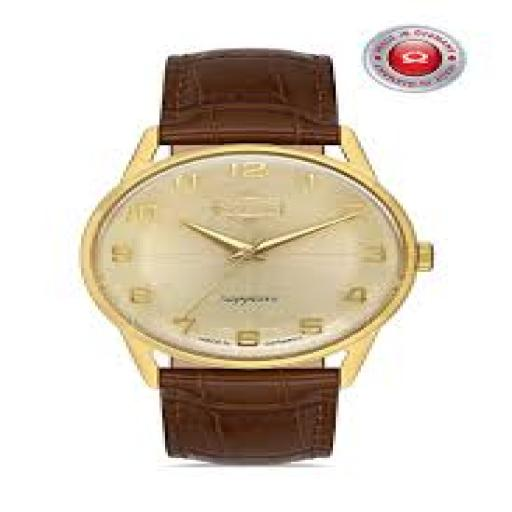KolSaati: (64, 30, 408, 462)
